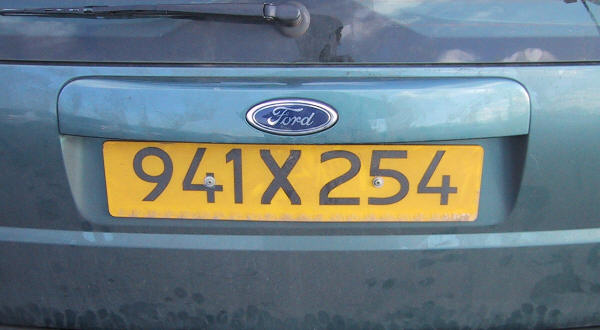license_plate: (101, 139, 485, 222)
